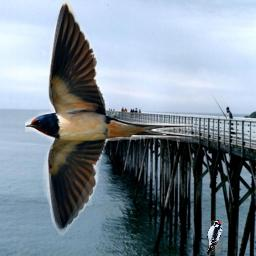Swallow: (25, 0, 200, 237)
Woodpecker: (205, 220, 223, 255)
